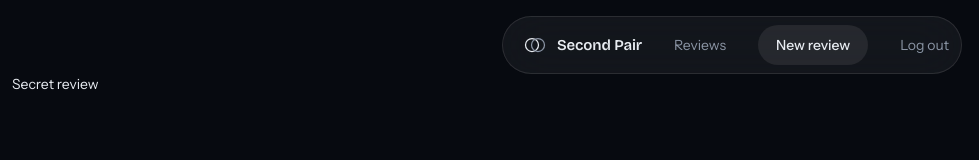
Scenario: RequireAuth › logging out forgets the token and returns to the start page
The image size is (979, 160).
Click the button "Log out". click: (925, 45)
box: [896,26,953,64]
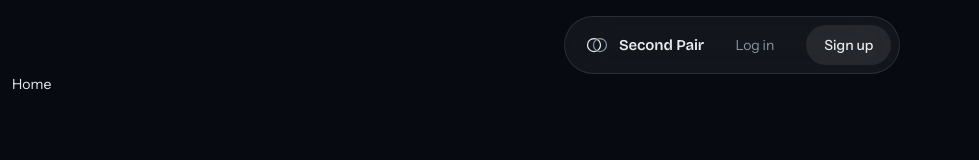
Result: the text "Home" is shown at [12,75,51,93]
Result: the link "Log in" is shown at [736,36,774,54]
